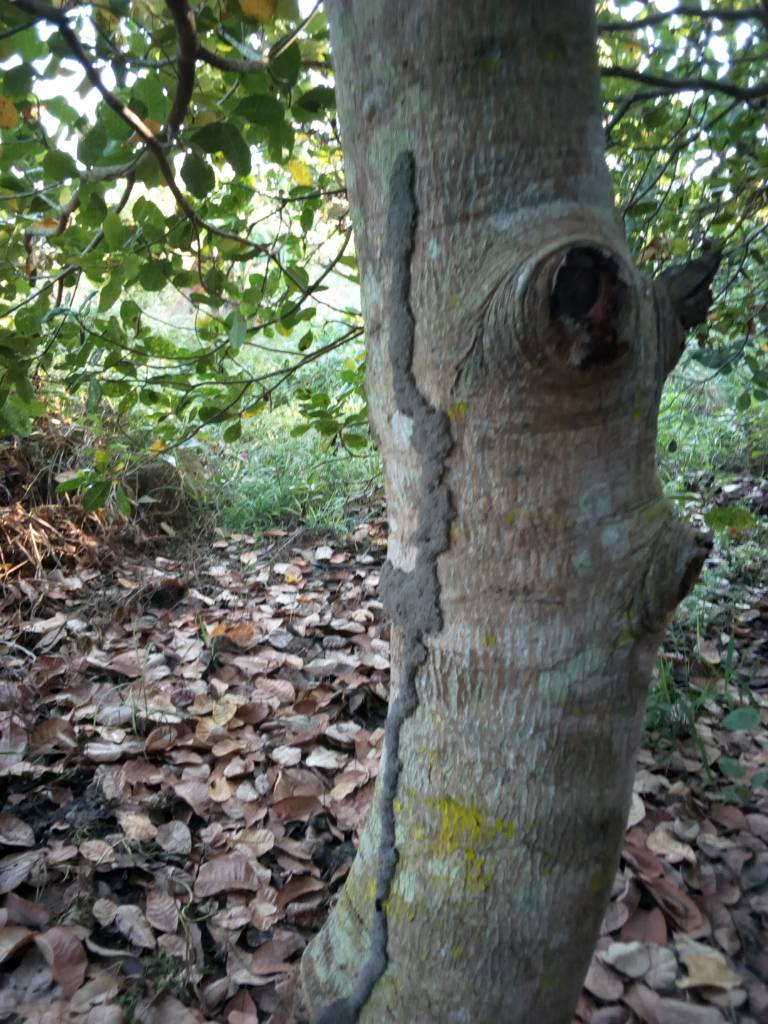Termites: (361, 146, 450, 1021)
